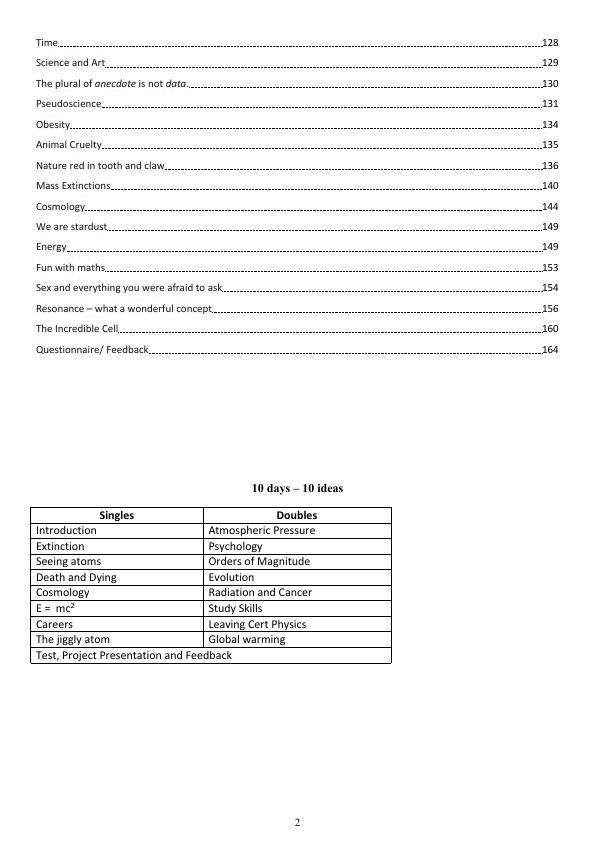table: (27, 502, 400, 669)
text: (31, 32, 566, 363), (249, 480, 348, 496)
